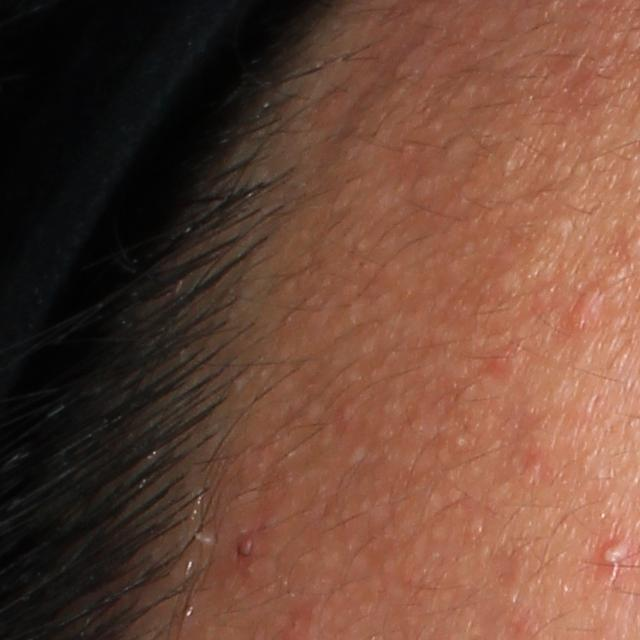comedo: (442, 128, 472, 160), (544, 214, 577, 240), (495, 267, 526, 294), (451, 429, 468, 451)
papule: (562, 281, 605, 334), (229, 526, 268, 582)
